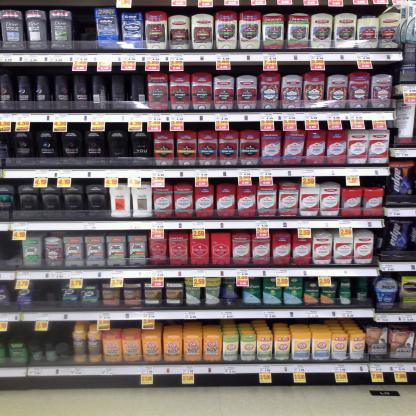Void: (29, 331, 70, 359), (74, 14, 94, 44), (1, 238, 15, 262), (42, 285, 58, 300)
